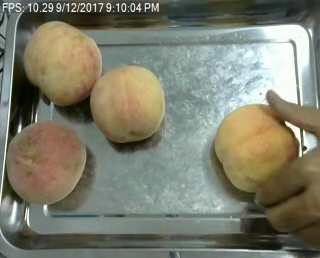Peach: (213, 102, 303, 193), (6, 119, 86, 205), (23, 20, 103, 105), (90, 65, 165, 143)
